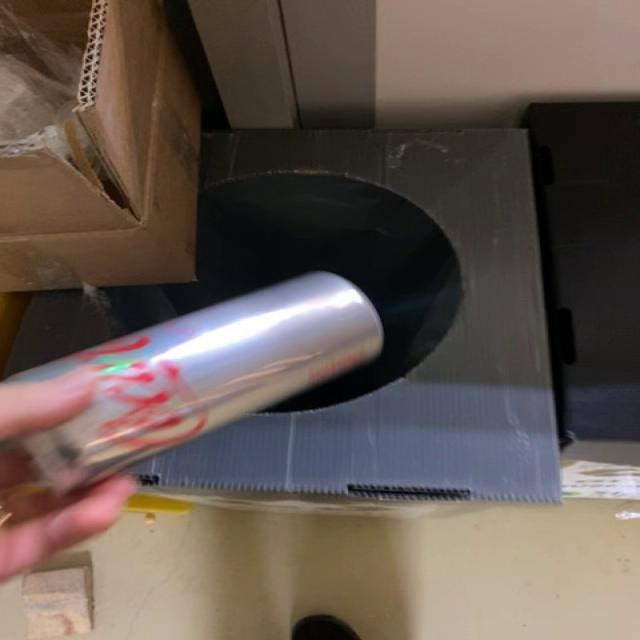bin: (7, 129, 559, 502)
metal: (7, 271, 384, 494)
